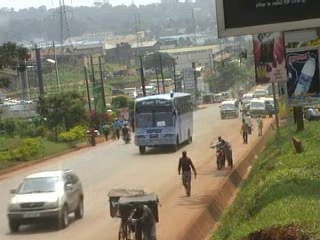Car: (5, 169, 88, 233)
Motorcycle: (211, 140, 228, 171), (117, 121, 133, 146)
